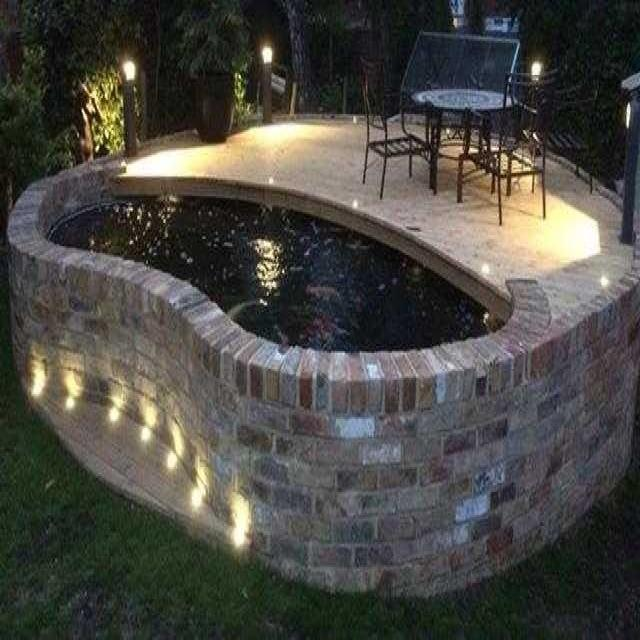Ponds: (14, 163, 545, 385)
